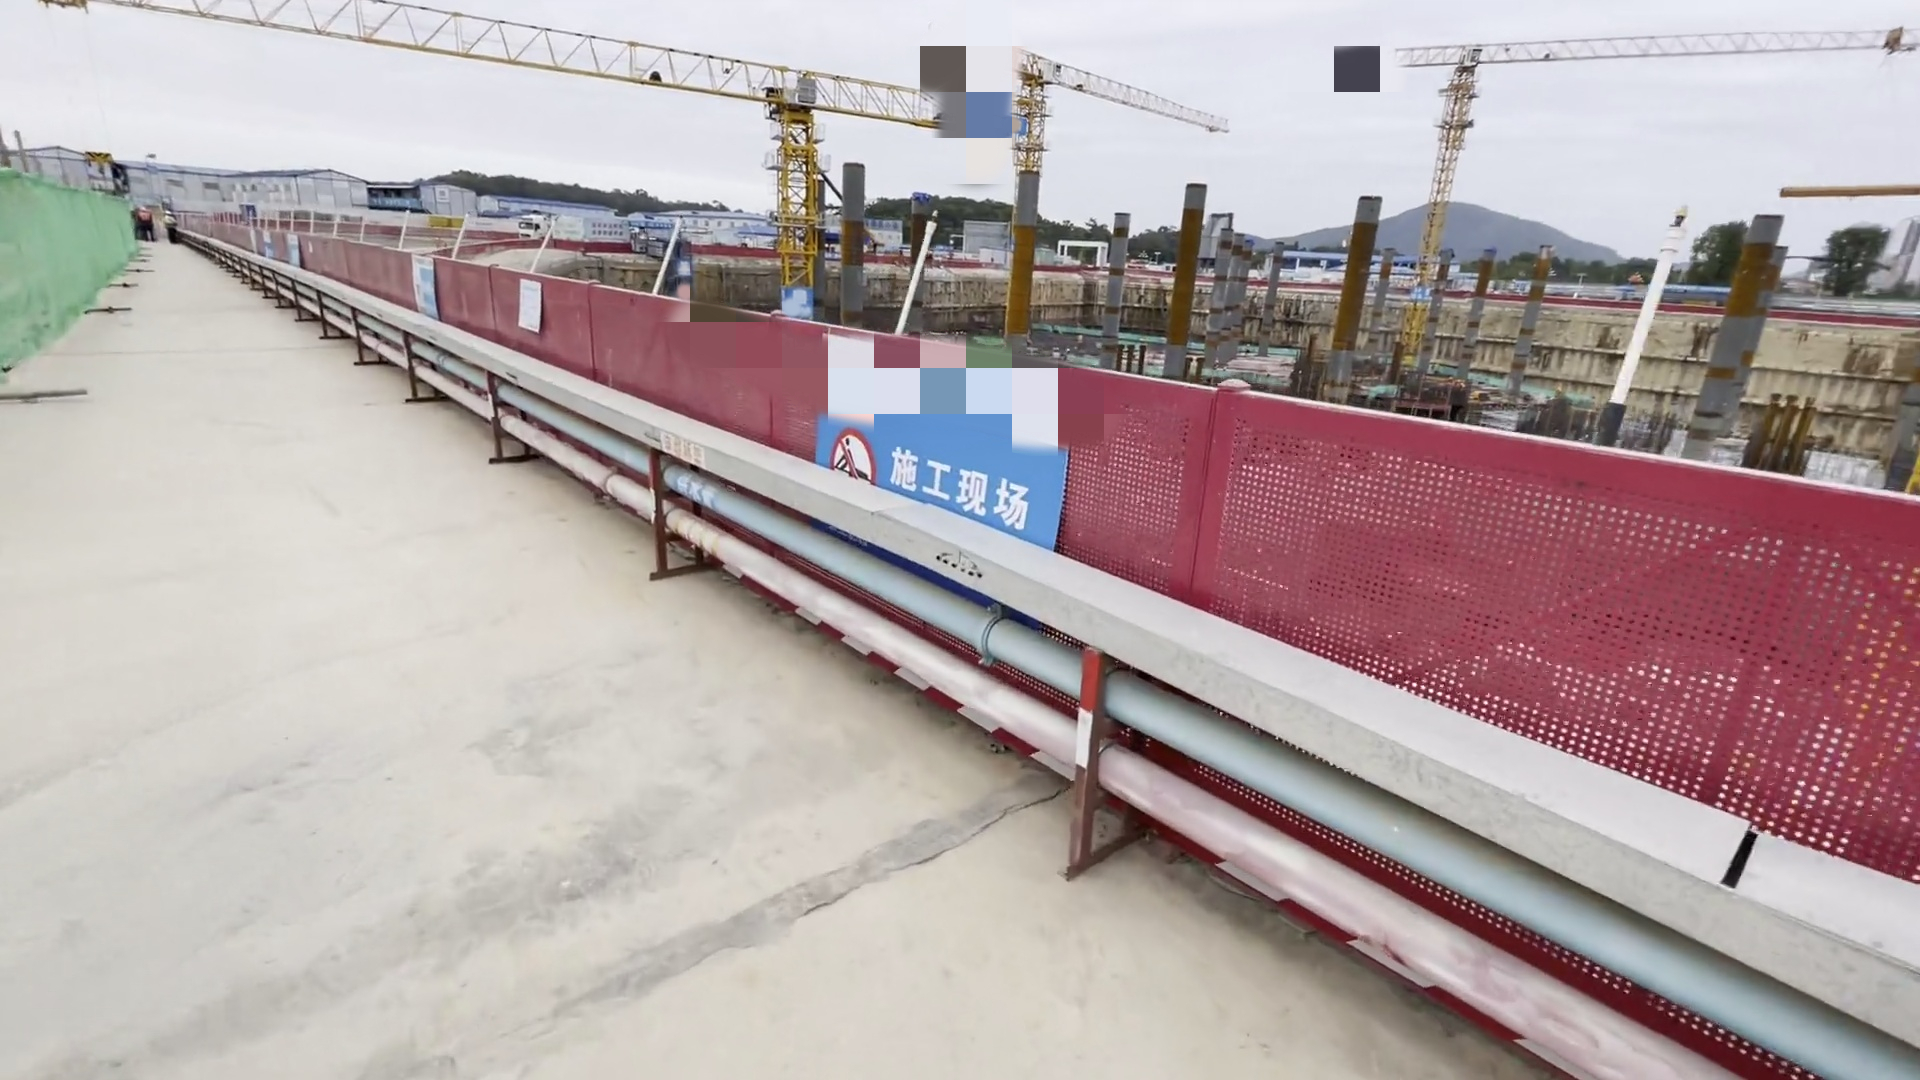fence: (204, 204, 1898, 953)
hook: (65, 143, 142, 196)
person: (134, 199, 158, 246), (163, 205, 178, 246)
slogan: (810, 334, 1065, 517), (219, 223, 303, 272), (408, 253, 441, 316)
